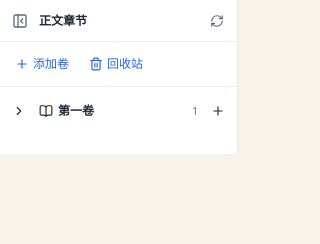
Scenario: two-level prose directory › shows finalized chapters only in the manuscript entrance
What coordinates should you click on to do the following:
click the 1st button with class "chapter-outline-arrow"
I would click on:
 (19, 111)
Its box is x1=6 y1=96 x2=32 y2=126.
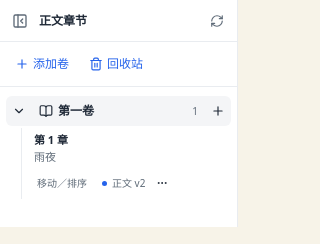
Now the text "正文 v2" is shown, box x1=112 y1=176 x2=145 y2=191
